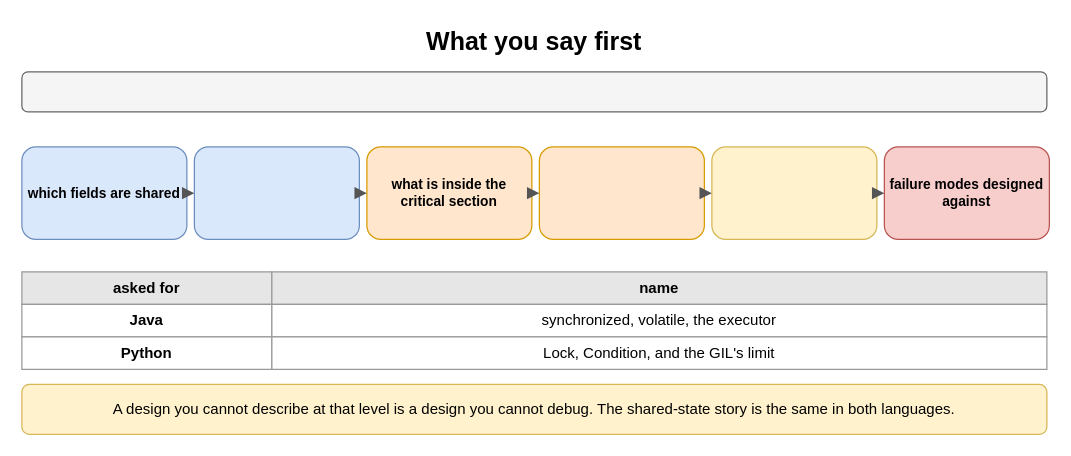
Some shapes in this 1071 by 456 pixel diagram are drawn without their labels. Here are the shapes that lost their labels. From the top down, the box of each, then its label:
(21, 71, 1047, 112): Start from the shared data, not from the API
(193, 146, 359, 239): which lock guards them
(538, 146, 704, 239): lock order
(711, 146, 877, 239): when a thread cannot proceed: wait, fail, or retry
